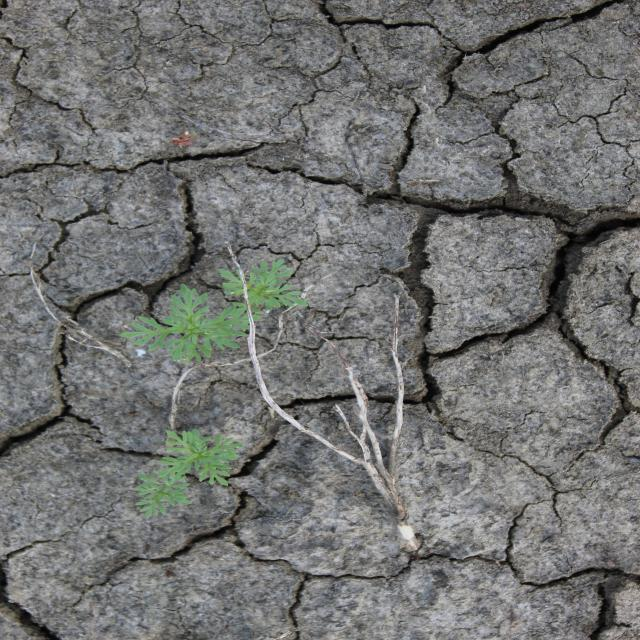Ragweed: (117, 257, 313, 367), (130, 426, 247, 521)
